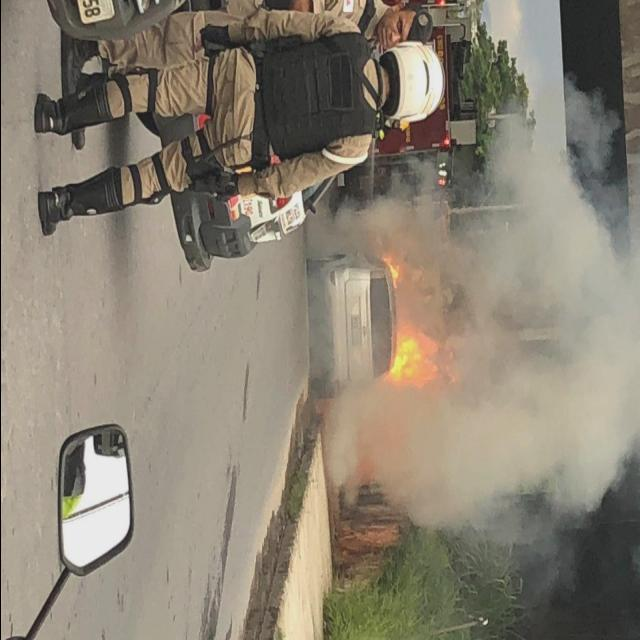Fire: (387, 327, 461, 387), (385, 261, 400, 287)
